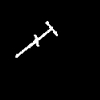double_crochet: (16, 21, 57, 57)
